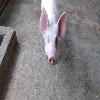heo: (37, 4, 70, 67)
